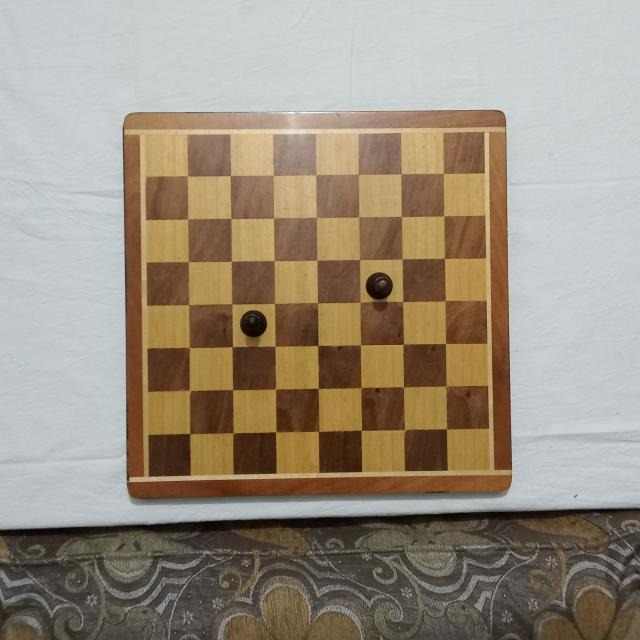black-pawn: (363, 271, 394, 302), (239, 306, 268, 337)
